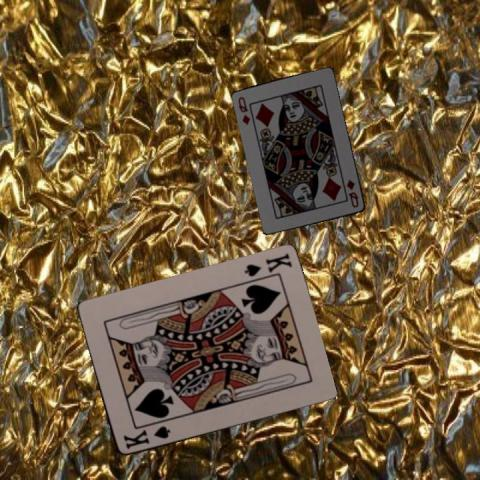Ks: (241, 250, 294, 278), (120, 424, 172, 452)
Qd: (235, 94, 252, 127), (344, 176, 360, 209)
